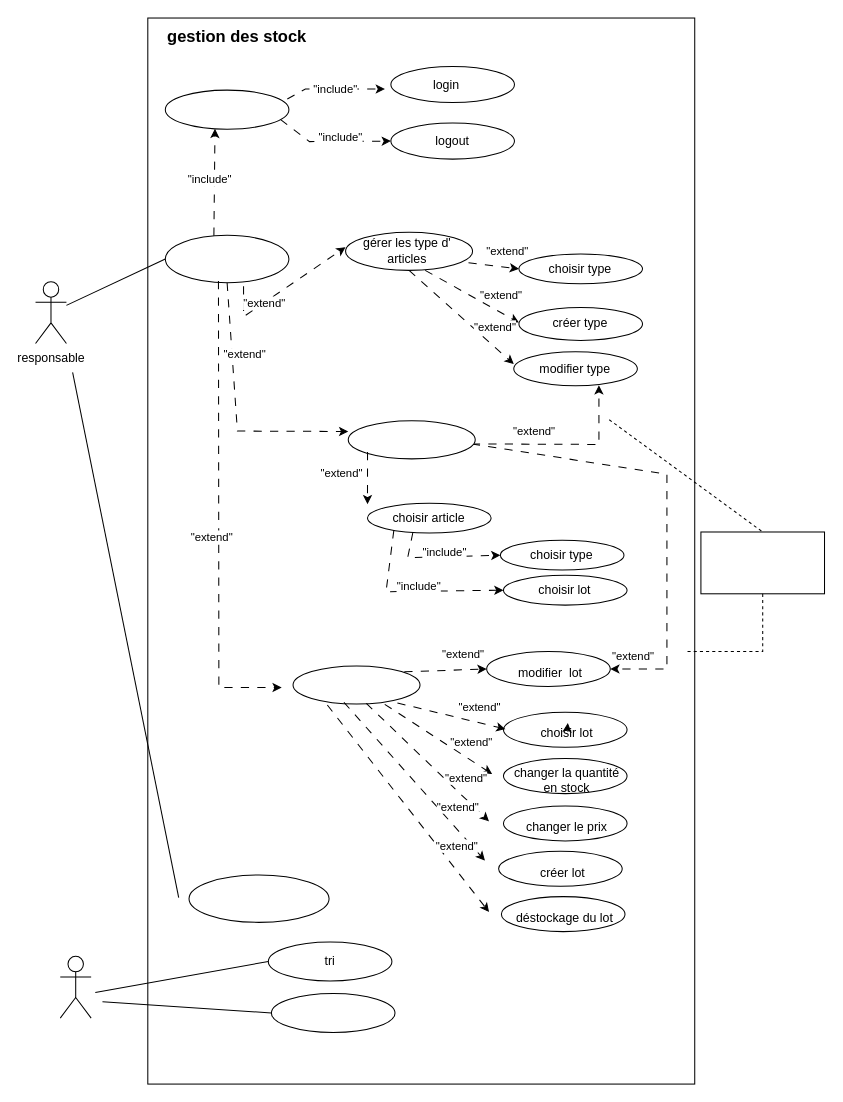
The diagram is 843 pixels wide and 1102 high, and some of its shapes have lost their labels. Here are the shapes that lost their labels. From the top down, the centre of each, then its label:
At pixel 226 109: "authentifier".
At pixel 226 258: "gérer le stock".
At pixel 411 439: "gérer les articles".
At pixel 762 562: "on change d'etiquette et on modifie le stock".
At pixel 356 684: "gérer les lots".
At pixel 258 898: "gérer les impressions".
At pixel 75 986: "bénévole".
At pixel 332 1012: "stockage".
